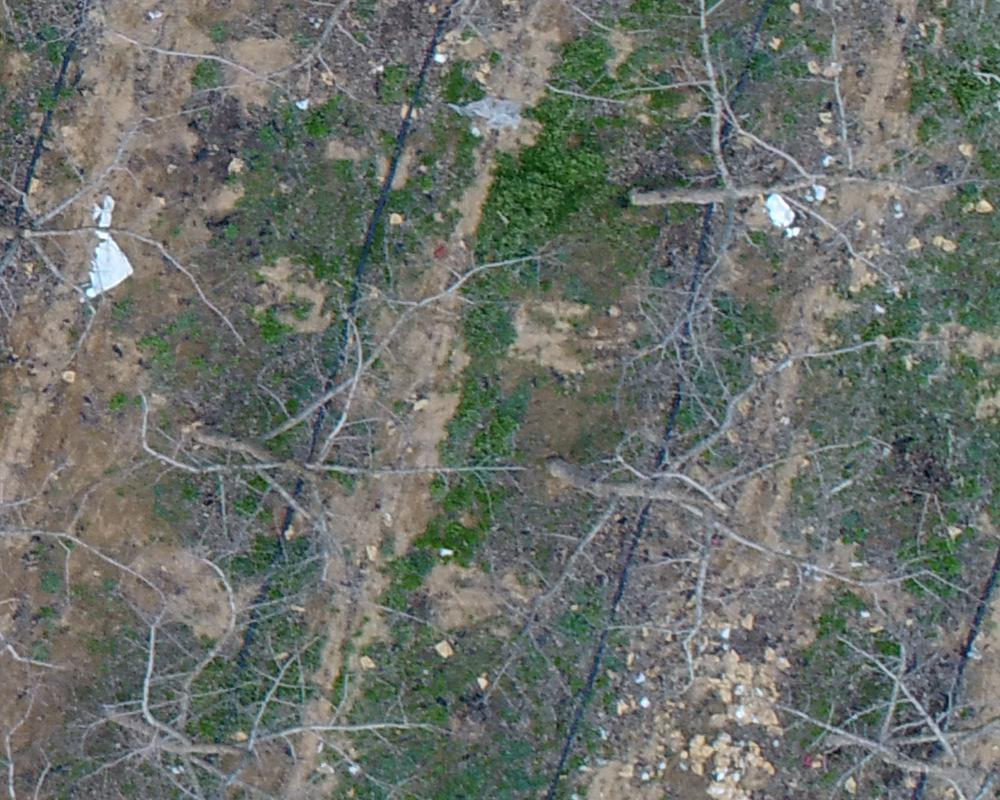apple: (499, 344, 987, 658), (107, 242, 564, 562), (29, 554, 461, 790), (616, 10, 981, 280), (10, 10, 249, 353)
